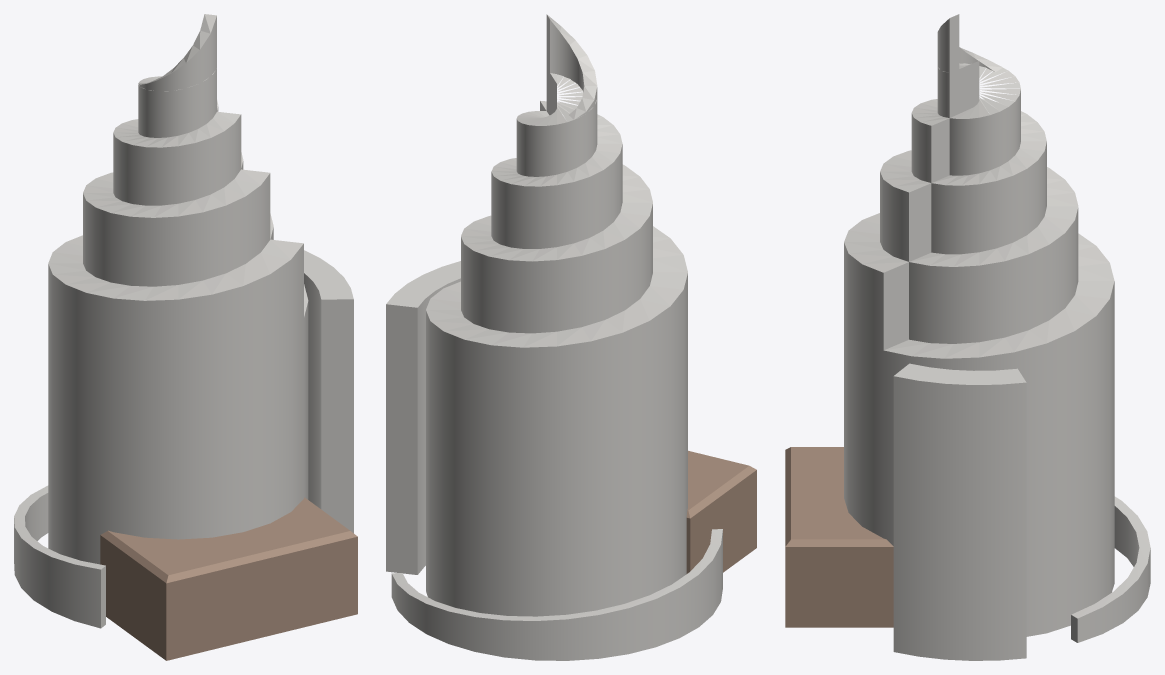
The model's file is dal-thanks-giving-chapel.glb.
The picture shows the model from 3 angles, left to right: view 1: azimuth 30°, elevation 25°; view 2: azimuth 150°, elevation 25°; view 3: azimuth 270°, elevation 25°; orthographic projection. The views are drawn at different scales.
Visible parts, largest first — view 1: Chapel of Thanksgiving; view 2: Chapel of Thanksgiving; view 3: Chapel of Thanksgiving.
Boxes of the visible parts, <box> form: Chapel of Thanksgiving: <box>14,14,357,660</box>; Chapel of Thanksgiving: <box>386,14,756,660</box>; Chapel of Thanksgiving: <box>785,14,1150,660</box>.
Size of the model in its own units: 15.69 by 28.3 by 16.2.
